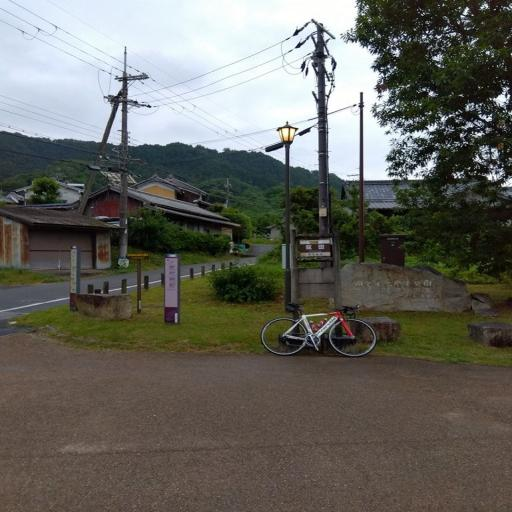bag: (261, 303, 376, 357)
phone: (312, 20, 333, 234)
ramp: (0, 283, 69, 334)
shelf: (0, 333, 511, 511)
